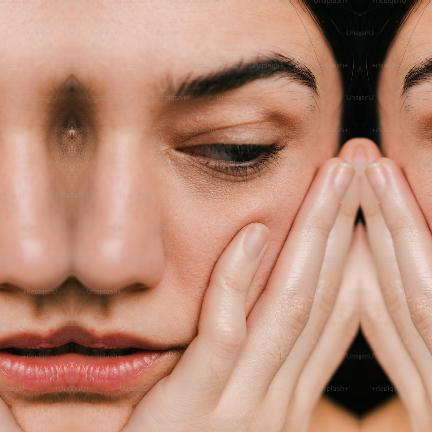Nail: (333, 162, 355, 198), (365, 162, 387, 198), (245, 227, 268, 255)
